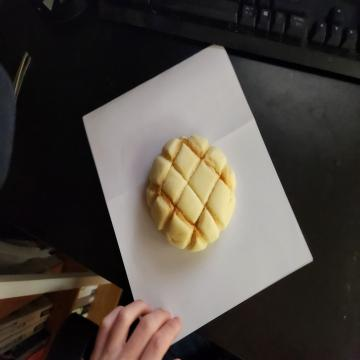melon_bread: (145, 134, 236, 252)
